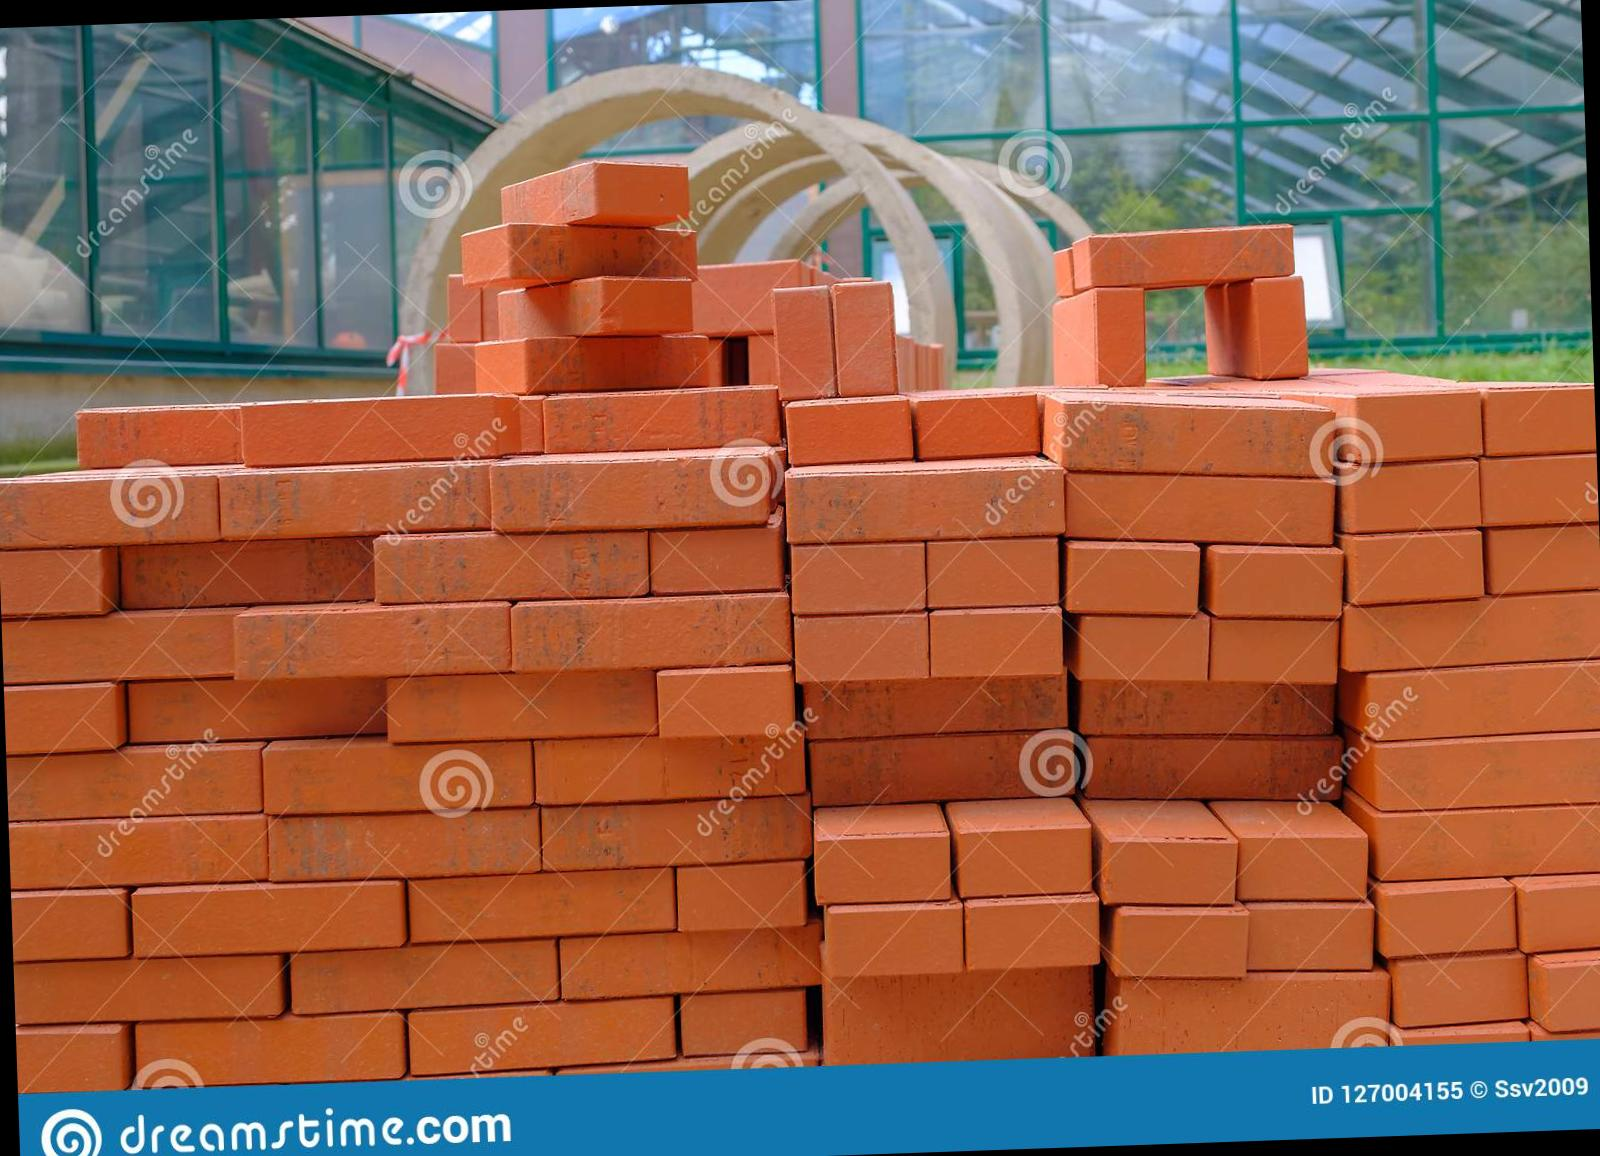brick: (821, 966, 1092, 1063), (1061, 389, 1337, 483), (1066, 464, 1337, 553), (1116, 970, 1393, 1054), (489, 454, 769, 531), (512, 594, 791, 671), (534, 726, 805, 805), (786, 467, 1066, 543), (542, 793, 812, 870), (1083, 729, 1342, 808), (262, 740, 533, 816), (1339, 592, 1600, 671), (234, 605, 512, 678), (219, 464, 492, 539), (409, 998, 673, 1074), (267, 808, 540, 882), (373, 531, 650, 603), (133, 882, 405, 955), (384, 668, 655, 741), (561, 924, 821, 1000), (134, 1014, 402, 1088), (289, 940, 557, 1013), (810, 733, 1077, 805), (410, 869, 675, 941), (14, 954, 281, 1024), (6, 746, 262, 820), (10, 817, 268, 889), (1077, 672, 1333, 743), (120, 536, 374, 607), (240, 395, 494, 463), (129, 675, 385, 743), (804, 673, 1067, 738), (1369, 666, 1600, 739), (1375, 806, 1600, 880), (1, 612, 235, 683), (1375, 736, 1600, 810), (0, 474, 217, 548), (543, 387, 779, 453), (506, 217, 697, 288), (1088, 226, 1294, 287), (522, 330, 709, 392), (76, 405, 243, 467), (1065, 543, 1201, 617), (1101, 834, 1237, 906), (1075, 612, 1212, 683), (955, 826, 1092, 896), (1381, 884, 1516, 956), (825, 906, 963, 976), (790, 543, 925, 613), (1214, 548, 1344, 621), (815, 836, 952, 905), (1207, 613, 1339, 685), (1355, 531, 1484, 603), (656, 669, 794, 736), (1117, 910, 1250, 980), (927, 538, 1057, 608), (929, 610, 1063, 678), (793, 613, 928, 680), (1235, 833, 1368, 901), (965, 901, 1098, 969), (1398, 956, 1525, 1026), (676, 862, 805, 930), (1353, 462, 1480, 531), (1246, 905, 1374, 973), (650, 528, 781, 592), (1481, 454, 1599, 526), (1355, 391, 1480, 458), (681, 991, 806, 1055), (785, 400, 912, 463), (913, 395, 1037, 457), (1482, 387, 1596, 454), (1488, 525, 1600, 594), (11, 894, 124, 961), (4, 687, 116, 752), (831, 282, 894, 395), (773, 286, 834, 399), (15, 1028, 123, 1091), (0, 549, 102, 615), (598, 273, 694, 334), (1092, 284, 1147, 387), (594, 159, 689, 216), (1522, 883, 1600, 952), (1255, 276, 1308, 375), (1548, 961, 1600, 1032)
